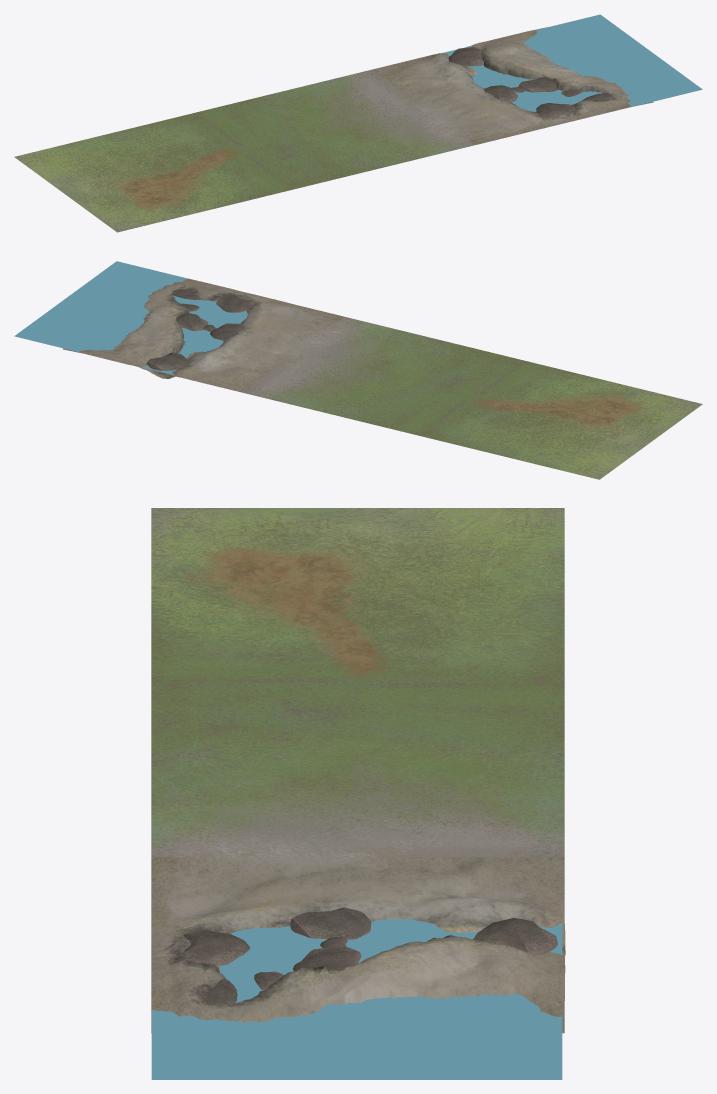
File: Terrain_River4.glb
The picture shows the model from 3 angles, top to bottom: view 1: azimuth 30°, elevation 25°; view 2: azimuth 150°, elevation 25°; view 3: azimuth 270°, elevation 25°; orthographic projection. The views are drawn at different scales.
Parts seen in each view (by area): view 1: ground_2, ground_1, creek', Plane, rock.001, rock, rock.003, rock.002; view 2: ground_2, ground_1, creek', Plane, rock.001, rock.003, rock, rock.002; view 3: ground_1, ground_2, creek', Plane, rock.002, rock.001, rock.003, rock.
Part boxes in pixels (x1,y1,x2,y2): ground_2: [14, 113, 295, 232]; ground_1: [193, 69, 474, 188]; creek': [372, 27, 653, 144]; Plane: [442, 14, 702, 128]; rock.001: [448, 47, 483, 66]; rock: [518, 77, 558, 92]; rock.003: [536, 103, 575, 118]; rock.002: [483, 85, 517, 102]; ground_2: [421, 360, 702, 479]; ground_1: [241, 317, 523, 435]; creek': [63, 278, 344, 392]; Plane: [14, 261, 247, 375]; rock.001: [146, 352, 188, 370]; rock.003: [216, 294, 254, 312]; rock: [176, 313, 208, 331]; rock.002: [210, 323, 244, 340]; ground_1: [151, 682, 564, 857]; ground_2: [151, 508, 564, 682]; creek': [151, 857, 565, 1033]; Plane: [151, 919, 562, 1079]; rock.002: [290, 907, 371, 939]; rock.001: [473, 918, 557, 954]; rock.003: [177, 930, 250, 965]; rock: [293, 946, 361, 971].
Size of the model in its own units: 19.64 by 0.4665 by 6.01.
Materials: 5 (4 with a texture image).
